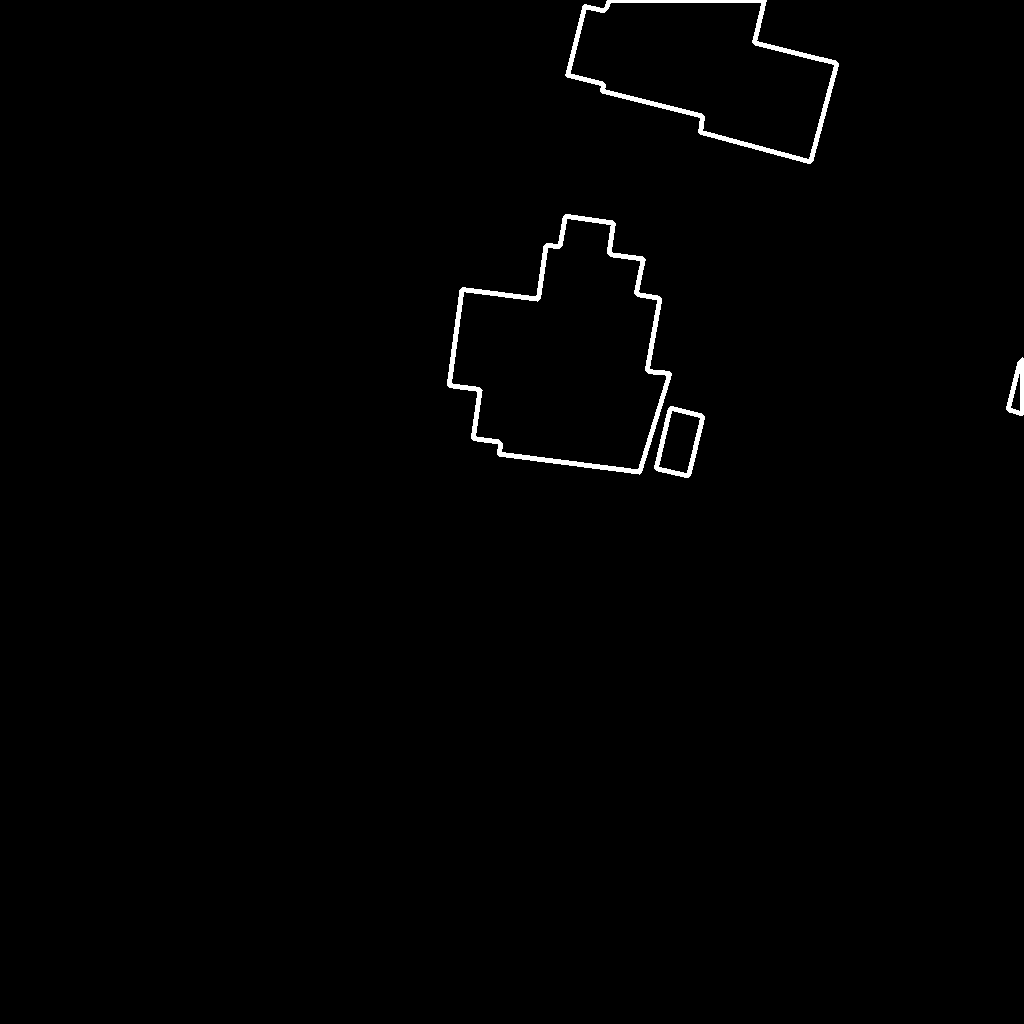building: (449, 216, 671, 473), (567, 0, 838, 163), (656, 408, 704, 477), (1008, 359, 1024, 415)
